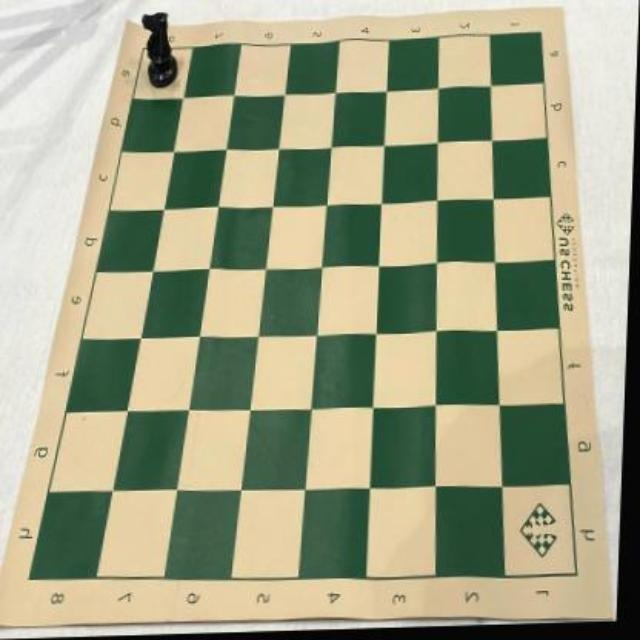black-knight: (140, 13, 180, 91)
